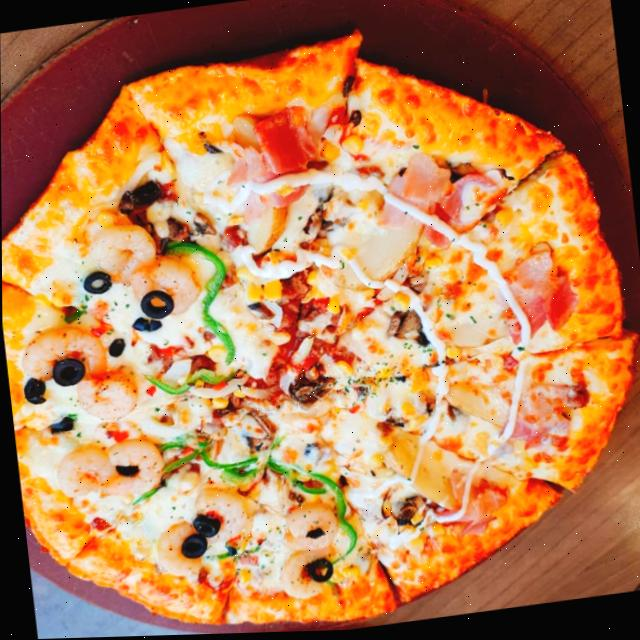black_olives: (137, 288, 174, 322), (48, 356, 85, 387), (176, 531, 206, 561), (303, 557, 332, 585), (81, 268, 111, 295), (190, 513, 220, 539), (20, 376, 45, 404), (130, 315, 161, 334), (47, 415, 73, 434), (104, 337, 125, 359), (302, 444, 322, 467), (113, 463, 137, 478), (303, 528, 323, 540)
mushrooms: (383, 309, 428, 353), (285, 371, 335, 409), (397, 496, 426, 530)
pizza: (0, 12, 640, 640)
